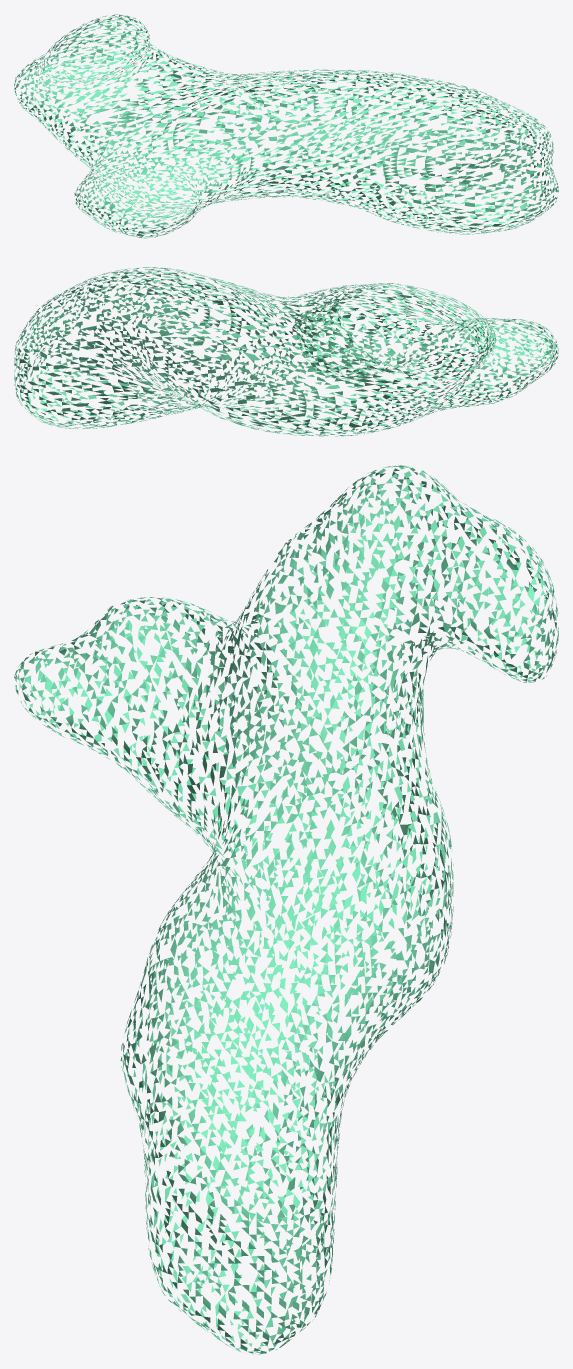
Rendered from healthy.glb.
3 views of the same model, one above another, from view 1: azimuth 30°, elevation 25°; view 2: azimuth 150°, elevation 25°; view 3: azimuth 270°, elevation 25° (orthographic). The views are drawn at different scales.
Size of the model in its own units: 116 by 55.53 by 57.38.
